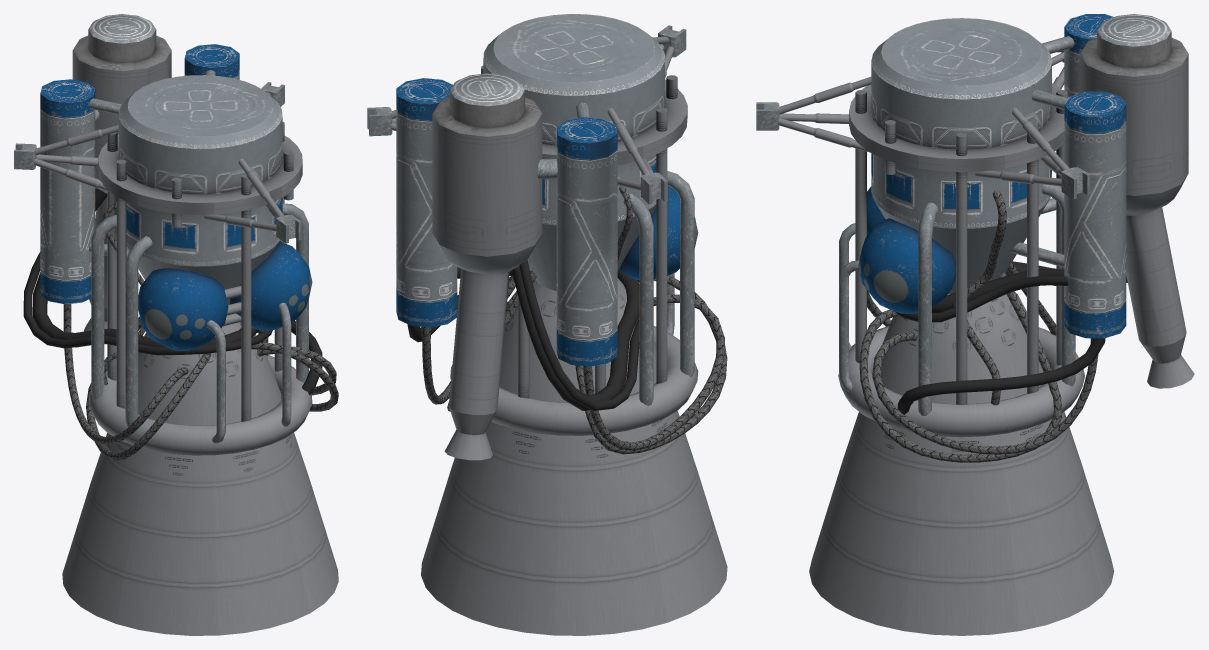
Rendered from engine3.obj.
The picture shows the model from 3 angles, left to right: view 1: azimuth 30°, elevation 25°; view 2: azimuth 150°, elevation 25°; view 3: azimuth 270°, elevation 25°; orthographic projection. The views are drawn at different scales.
Parts seen in each view (by area): view 1: Engine3_Engine3Mesh; view 2: Engine3_Engine3Mesh; view 3: Engine3_Engine3Mesh.
Part boxes in pixels (bbox=[...]): Engine3_Engine3Mesh: bbox=[14, 14, 338, 635]; Engine3_Engine3Mesh: bbox=[367, 14, 727, 635]; Engine3_Engine3Mesh: bbox=[756, 14, 1194, 635].
Size of the model in its own units: 2.82 by 4.9 by 3.58.
Materials: 1 (1 with a texture image).
